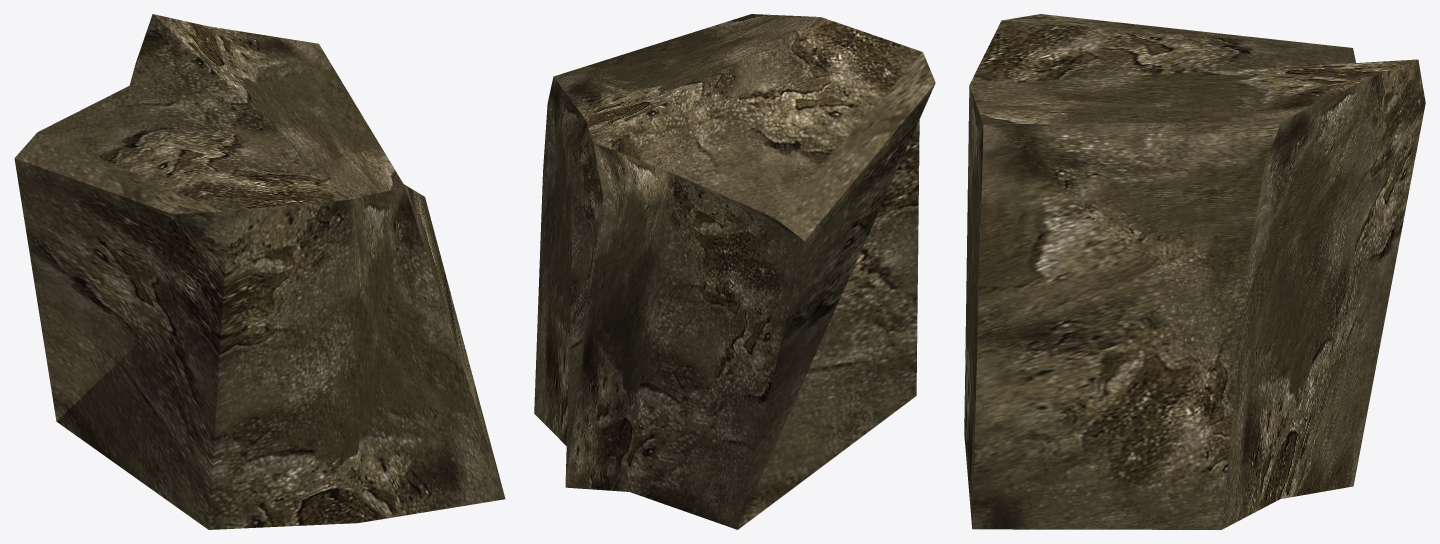
File: cave_rock_patron.fbx
The picture shows the model from 3 angles, left to right: view 1: azimuth 30°, elevation 25°; view 2: azimuth 150°, elevation 25°; view 3: azimuth 270°, elevation 25°; orthographic projection. The views are drawn at different scales.
Parts seen in each view (by area): view 1: StairBlock; view 2: StairBlock; view 3: StairBlock.
Part boxes in pixels (<box>): StairBlock: <box>14,14,505,529</box>; StairBlock: <box>534,14,935,529</box>; StairBlock: <box>964,14,1425,529</box>.
Bounding box in the file's own units: 2865 × 3106 × 3269.
1 material, 1 textured.
